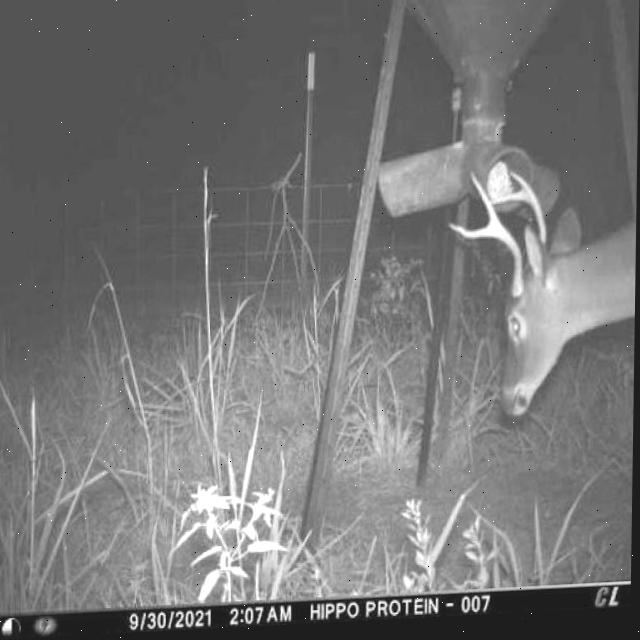Deer: (448, 151, 636, 428)
